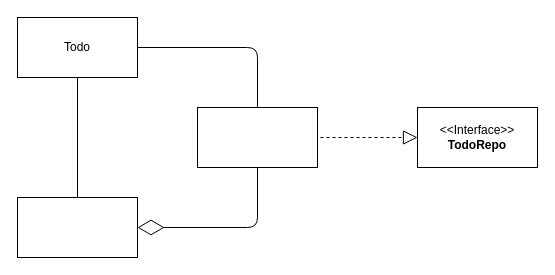
Some shapes in this 555 by 275 pixel diagram are drawn without their labels. Here are the shapes that lost their labels. From the top down, the box of each, then its label:
(196, 106, 318, 168): TodoService
(16, 196, 138, 258): TodoController
